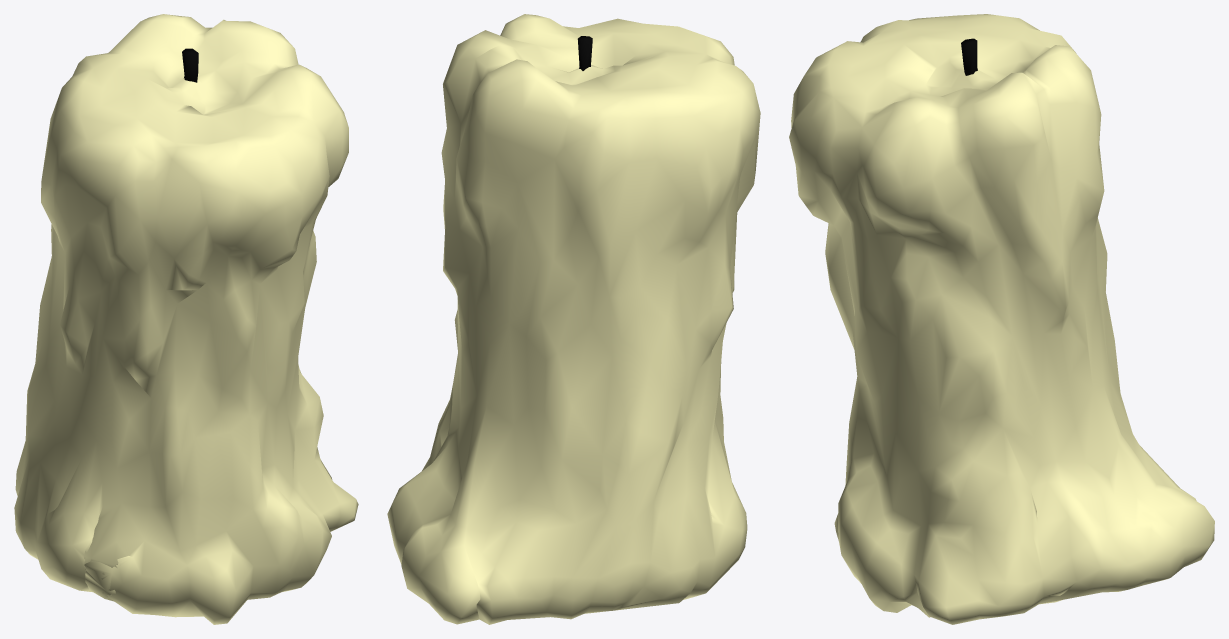
Rendered from IDVcandle2.obj.
3 renders of one model, left to right at view 1: azimuth 30°, elevation 25°; view 2: azimuth 150°, elevation 25°; view 3: azimuth 270°, elevation 25°, orthographic. The views are drawn at different scales.
Visible parts, largest first — view 1: CANDLEBIG1.148; view 2: CANDLEBIG1.148; view 3: CANDLEBIG1.148.
Part boxes in pixels (x1,y1,x2,y2): CANDLEBIG1.148: [14, 14, 358, 624]; CANDLEBIG1.148: [387, 14, 760, 624]; CANDLEBIG1.148: [789, 14, 1214, 624].
Size of the model in its own units: 1.84 by 3.06 by 2.17.
